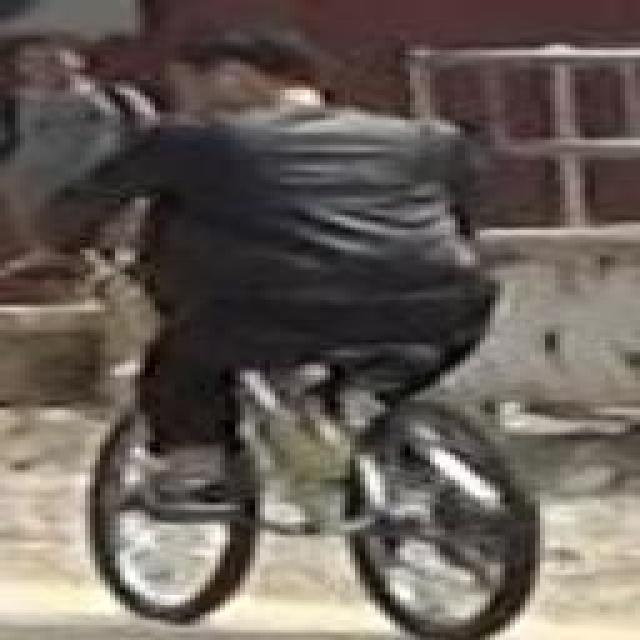adult: (36, 40, 508, 516), (0, 48, 150, 252)
